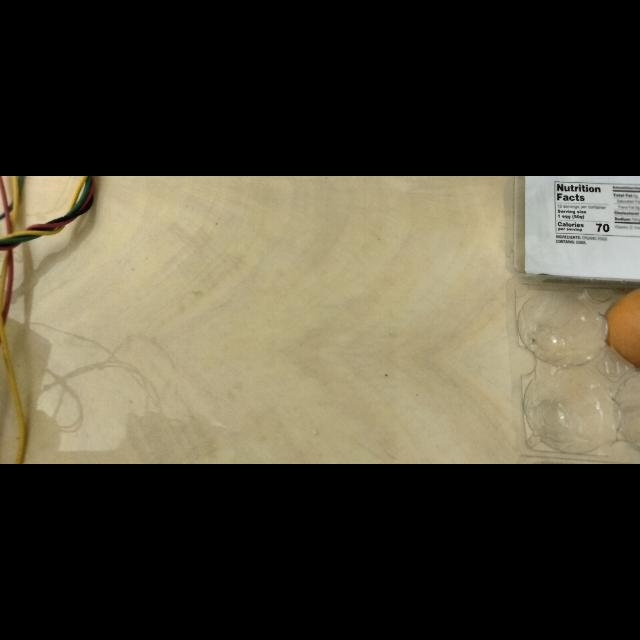Egg: (604, 278, 640, 377)
